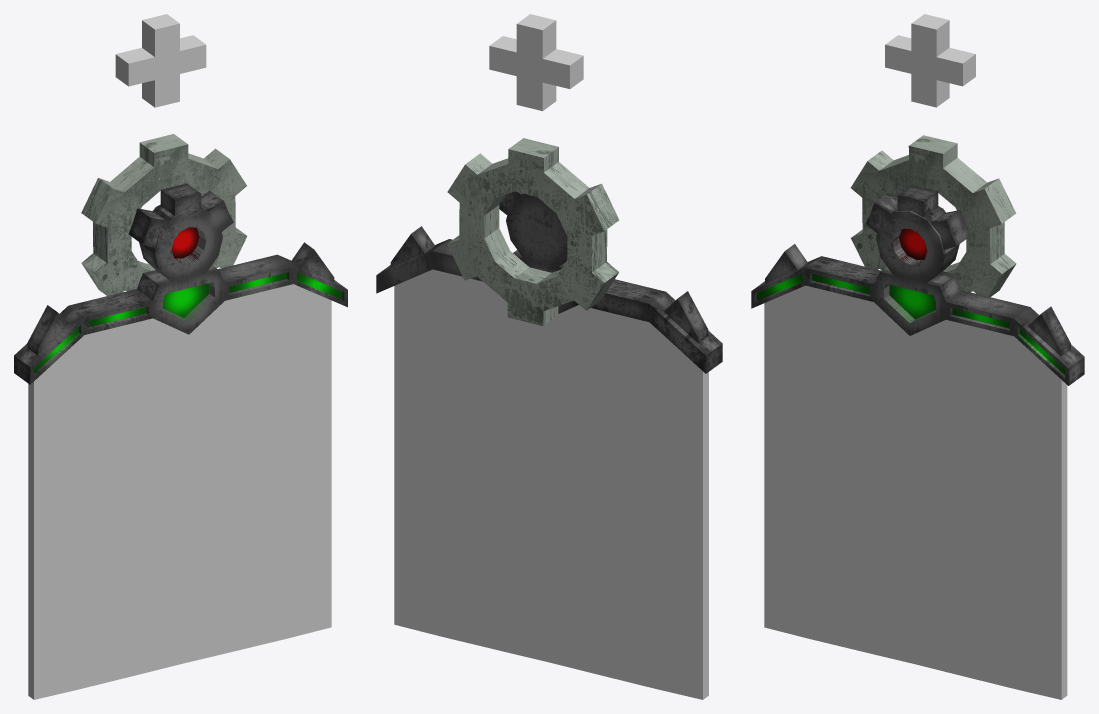
The model's file is Charger Health.FBX.
The picture shows the model from 3 angles, left to right: view 1: azimuth 30°, elevation 25°; view 2: azimuth 150°, elevation 25°; view 3: azimuth 330°, elevation 25°; orthographic projection. The views are drawn at different scales.
Visible parts, largest first — view 1: Box001, Cylinder001, Cylinder002, Box002; view 2: Box001, Cylinder002, Cylinder001, Box002; view 3: Box001, Cylinder001, Cylinder002, Box002.
Boxes of the visible parts, x1,y1,x2,y2 form: Box001: (28,284,331,699); Cylinder001: (14,183,347,384); Cylinder002: (81,134,247,295); Box002: (115,14,206,107); Box001: (394,269,708,699); Cylinder002: (447,138,619,325); Cylinder001: (376,191,722,373); Box002: (489,14,583,111); Box001: (764,285,1067,699); Cylinder001: (751,185,1084,385); Cylinder002: (850,135,1016,297); Box002: (885,14,975,107).
Bounding box in the file's own units: 120 × 228 × 20.68.
